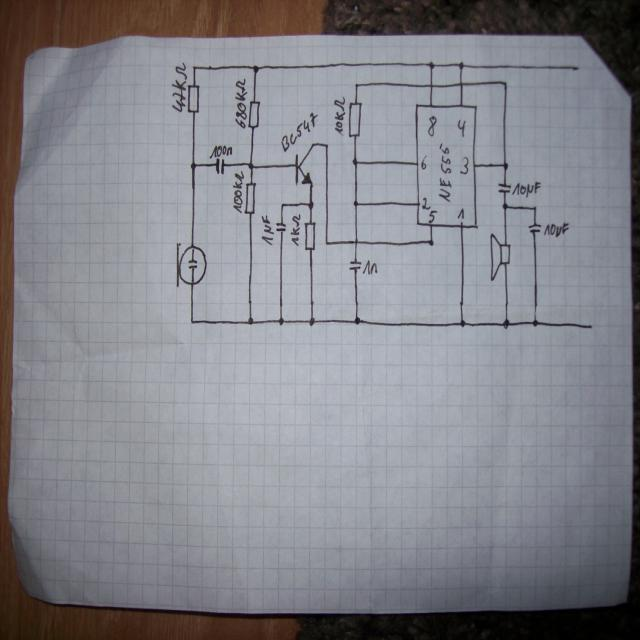capacitor: (214, 157, 226, 175), (497, 181, 511, 194), (348, 258, 362, 270), (528, 222, 541, 233), (275, 220, 286, 232)
crossover: (351, 236, 360, 246), (427, 80, 435, 90), (457, 79, 465, 88)
junction: (246, 160, 256, 172), (189, 160, 198, 172), (251, 62, 260, 74), (306, 199, 314, 211), (308, 316, 316, 328), (502, 317, 509, 330), (530, 318, 539, 328), (353, 316, 361, 326), (458, 318, 466, 328), (351, 156, 359, 165), (456, 61, 464, 70), (247, 316, 254, 326), (191, 62, 198, 72), (428, 237, 434, 248), (188, 318, 195, 327), (501, 202, 508, 211), (501, 79, 508, 88), (279, 200, 285, 210), (352, 198, 358, 208), (278, 317, 284, 327), (428, 60, 434, 70), (323, 141, 330, 149), (502, 161, 508, 170), (532, 204, 538, 212), (353, 81, 359, 89), (324, 239, 329, 246)
resistor: (347, 100, 363, 138), (247, 99, 261, 129), (303, 220, 316, 252), (244, 181, 256, 215), (187, 83, 200, 114)
terminal: (572, 62, 582, 75), (585, 320, 595, 332)
text: (280, 111, 318, 153), (437, 142, 452, 202), (171, 61, 187, 112), (234, 78, 247, 128), (511, 179, 541, 198), (232, 169, 244, 213), (542, 221, 570, 238), (333, 95, 345, 134), (261, 213, 274, 246), (208, 144, 233, 158), (290, 213, 300, 246), (362, 258, 377, 276), (426, 115, 437, 136), (458, 154, 469, 174), (456, 119, 466, 138), (420, 196, 430, 210), (427, 209, 437, 223), (420, 154, 427, 169), (457, 207, 464, 220)
transistor: (294, 142, 315, 187)
